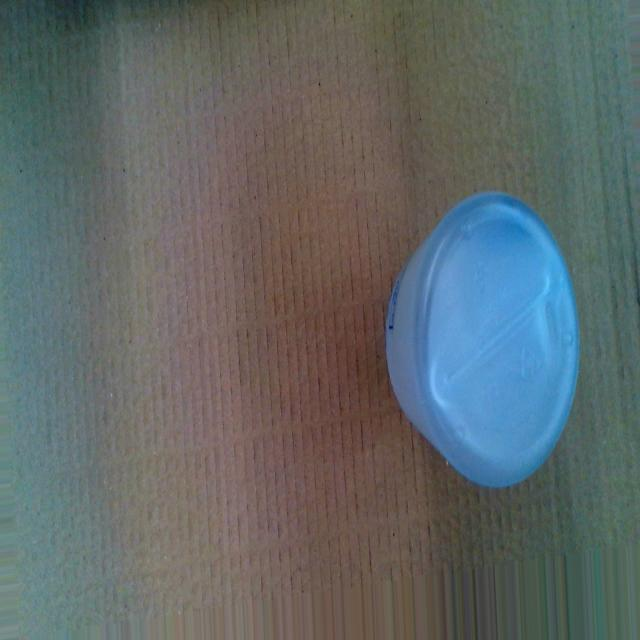bottle: (384, 184, 584, 496)
